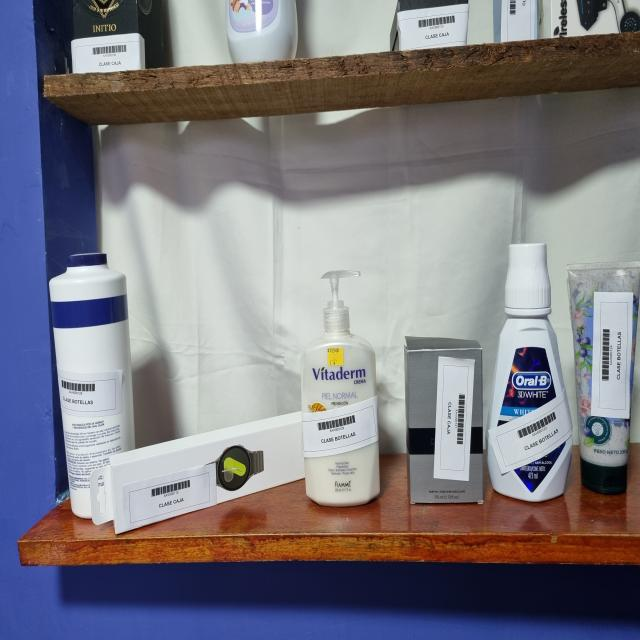botella: (49, 253, 134, 519), (486, 244, 572, 501), (301, 271, 380, 506), (568, 262, 640, 494), (226, 0, 297, 62)
caja: (86, 412, 305, 533), (405, 336, 483, 503), (71, 0, 164, 71), (390, 0, 469, 50), (493, 0, 541, 42)
